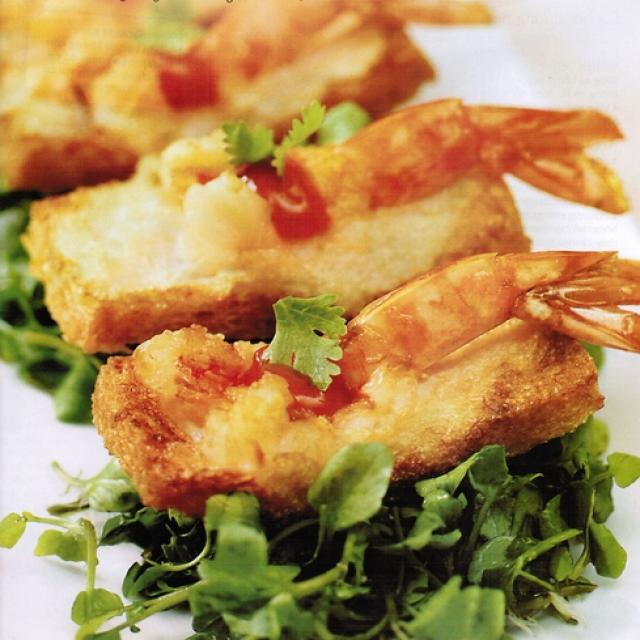炸货点心: (12, 10, 633, 612)
熟制海鲜: (12, 10, 633, 612)
